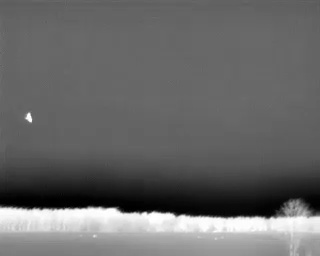BIRD: (22, 109, 37, 127)
